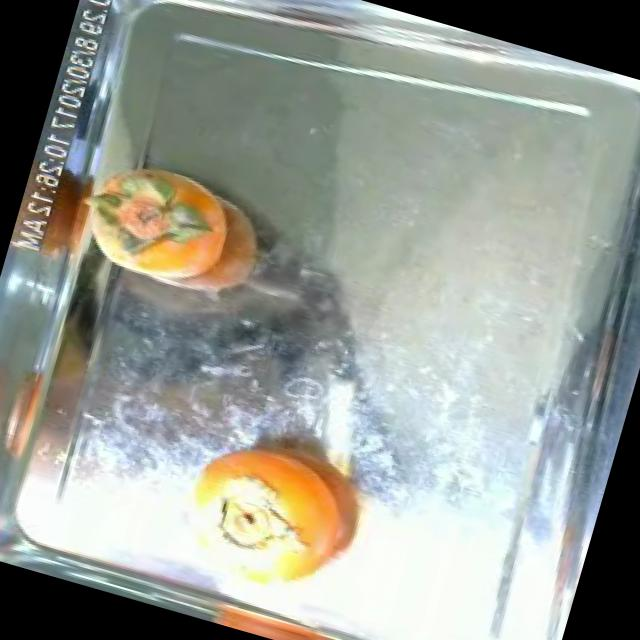Fruit: (191, 589, 360, 640)
